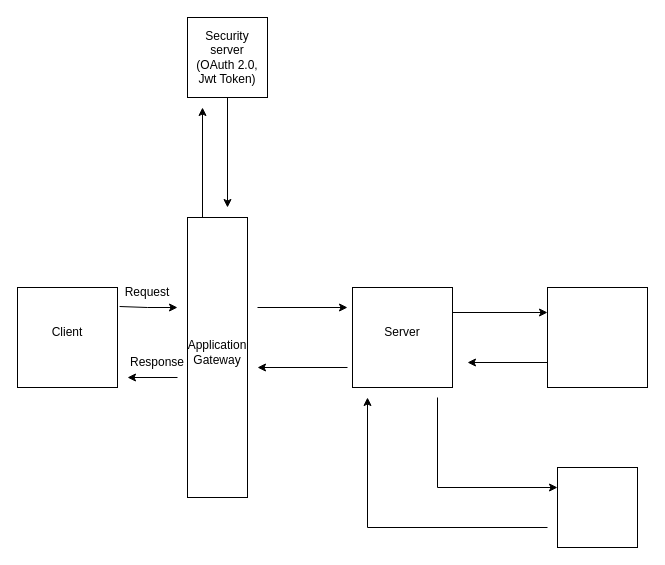
This 665x565 diagram has some shape labels left out. The shapes that lost their labels are listed below. From the top down, each one's centre as x and y in pixels, then its label:
At point 597,337: "DataBase".
At point 597,507: "Kafka Server".
